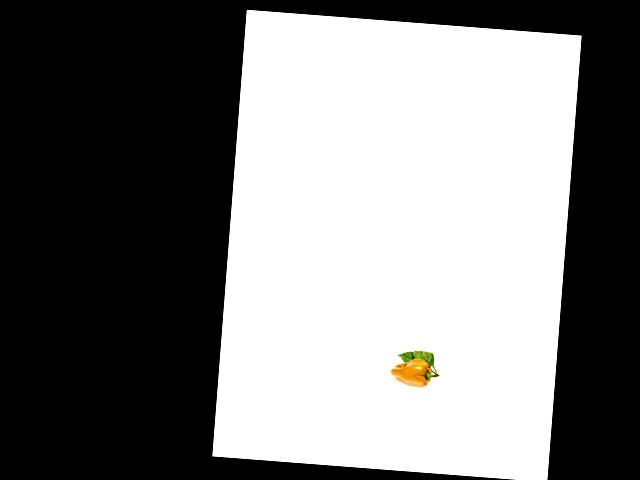bell_pepper: (388, 355, 441, 391)
